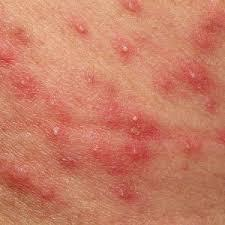folliculitis: (183, 61, 201, 95), (12, 72, 37, 96), (126, 143, 149, 167), (115, 188, 137, 204)
purulent: (115, 37, 138, 66), (180, 128, 196, 161), (49, 122, 65, 144), (74, 22, 90, 42), (128, 110, 143, 129)
sebo-crystan-conglo: (9, 160, 35, 190)
